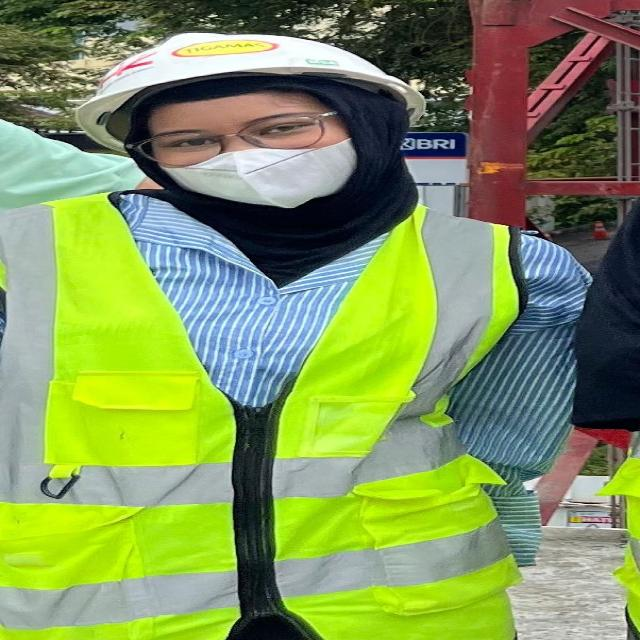safetyhelmet: (77, 32, 438, 208)
